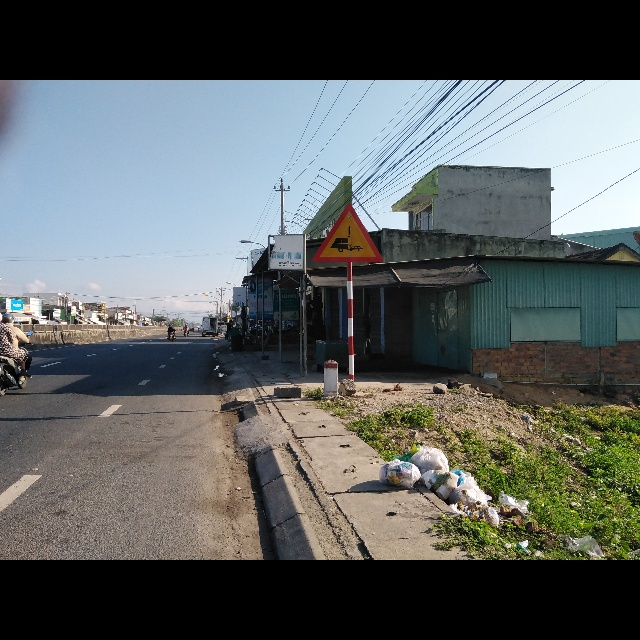Đoạn đường hay xảy ra tai nạn: (314, 200, 386, 266)
